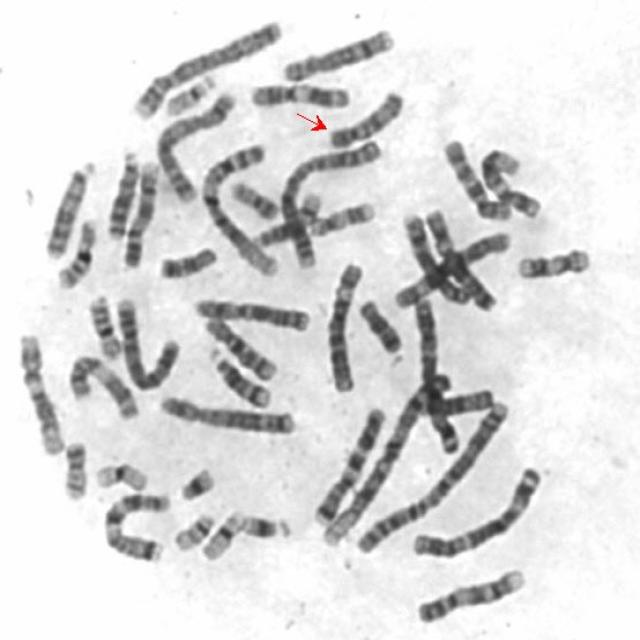A1: (310, 375, 506, 551), (194, 137, 281, 278)
A2: (320, 385, 513, 554), (272, 134, 384, 269)
A3: (404, 457, 546, 559), (406, 288, 464, 456)
B4: (123, 11, 284, 121), (109, 288, 182, 392)
B5: (149, 82, 238, 204), (152, 387, 300, 437)
C10: (436, 130, 514, 222), (198, 310, 280, 382)
C11: (61, 347, 142, 422), (243, 74, 352, 110)
C12: (11, 326, 66, 456), (473, 139, 544, 220)
C6: (390, 220, 510, 310), (318, 252, 366, 396)
C7: (306, 398, 389, 529), (96, 483, 173, 565)
C8: (394, 207, 500, 312), (274, 20, 397, 84)
C9: (410, 560, 528, 627), (115, 152, 163, 270)
D13: (37, 152, 98, 262), (99, 142, 142, 240)
D14: (201, 339, 274, 409), (247, 184, 325, 249)
D15: (322, 82, 407, 150), (411, 381, 499, 425)
E16: (50, 210, 100, 290), (81, 288, 123, 362)
E17: (509, 239, 594, 282), (302, 192, 378, 238)
E18: (352, 290, 404, 356), (152, 238, 220, 282)
F19: (194, 502, 246, 563), (88, 454, 150, 492)
F20: (222, 173, 280, 223), (54, 432, 90, 503)
G21: (233, 505, 294, 542), (172, 458, 217, 504)
G22: (156, 66, 218, 118), (166, 504, 216, 553)
X: (417, 201, 498, 313), (186, 290, 313, 334)
